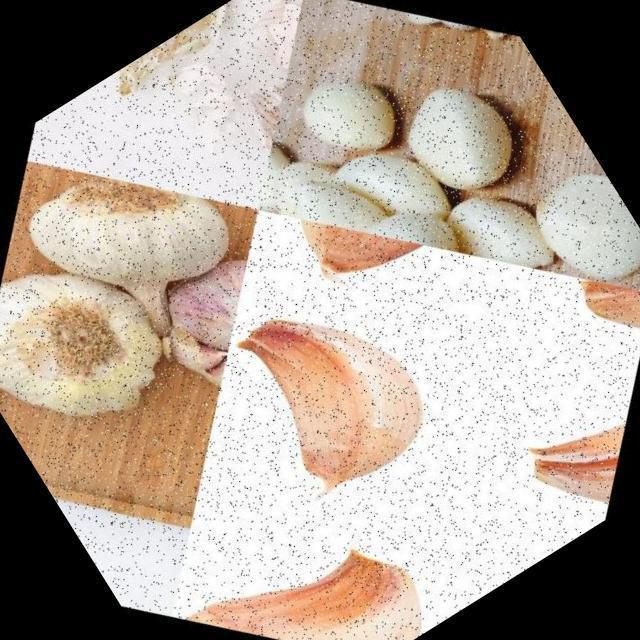garlic: (196, 0, 640, 446), (144, 233, 500, 589), (0, 84, 280, 385), (0, 189, 235, 495), (138, 422, 464, 640), (260, 139, 508, 385), (100, 217, 298, 416), (464, 320, 640, 541)
